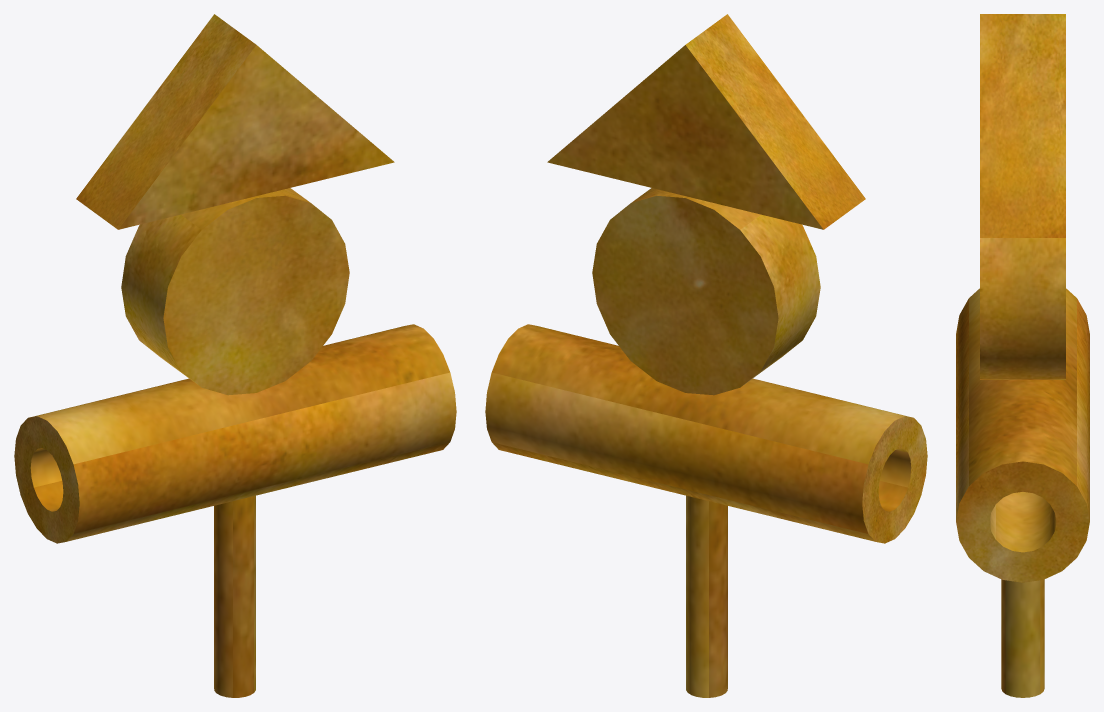
File: oden.fbx
3 renders of one model, left to right at view 1: azimuth 30°, elevation 25°; view 2: azimuth 150°, elevation 25°; view 3: azimuth 270°, elevation 25°, orthographic. The views are drawn at different scales.
Parts seen in each view (by area): view 1: pPrism2; view 2: pPrism2; view 3: pPrism2.
Boxes of the visible parts, x1,y1,x2,y2 form: pPrism2: (14,14,456,697); pPrism2: (485,14,927,697); pPrism2: (956,14,1089,697).
Size of the model in its own units: 1.75 by 2.92 by 0.5253.
1 material, 1 textured.
